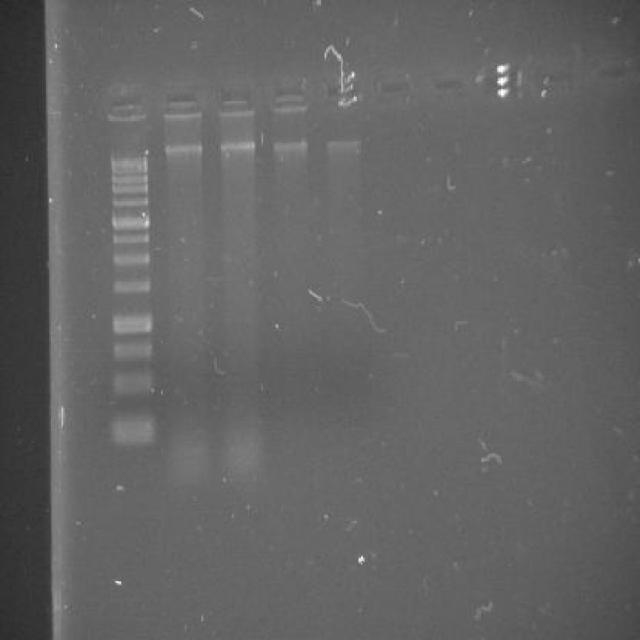B: (162, 140, 204, 154), (268, 138, 308, 152), (216, 138, 258, 151), (322, 137, 362, 148)
L: (99, 62, 481, 130)
M: (102, 139, 155, 461)
P: (109, 408, 154, 450), (110, 368, 153, 400), (110, 310, 153, 336), (112, 339, 154, 364), (110, 210, 152, 232), (108, 152, 150, 172), (110, 276, 152, 295), (111, 249, 151, 268), (110, 232, 152, 246), (110, 196, 150, 210), (109, 173, 151, 184), (109, 183, 149, 194)
Pc: (213, 76, 259, 121), (157, 80, 205, 122), (102, 82, 148, 125), (318, 71, 362, 114), (268, 74, 314, 115), (371, 69, 414, 108), (430, 70, 468, 104)
